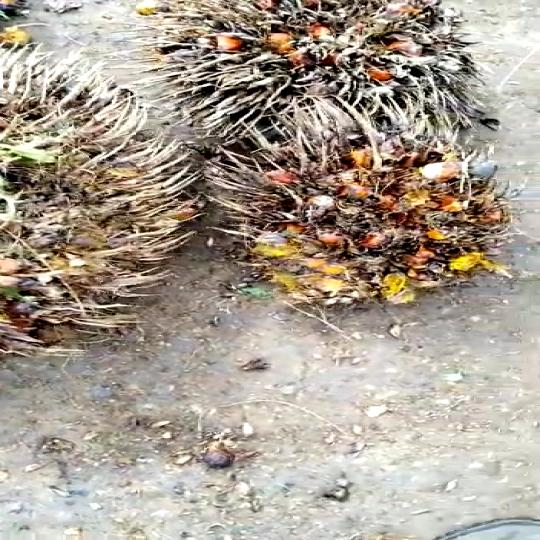terlalu masak: (207, 113, 504, 300), (149, 0, 472, 135)
